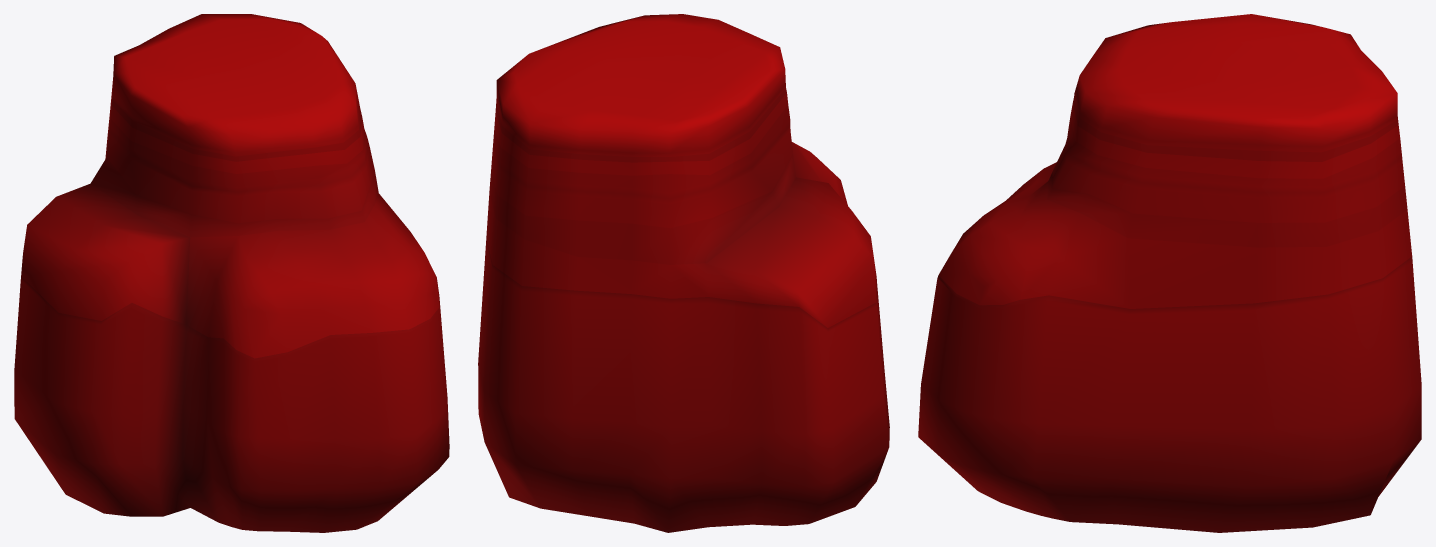
The model's file is geology-landforms-sandstonemesalarge_v3.fbx.
3 renders of one model, left to right at view 1: azimuth 30°, elevation 25°; view 2: azimuth 150°, elevation 25°; view 3: azimuth 270°, elevation 25°, orthographic. The views are drawn at different scales.
Visible parts, largest first — view 1: SandStoneMesaLarge_v3; view 2: SandStoneMesaLarge_v3; view 3: SandStoneMesaLarge_v3.
Boxes of the visible parts, <box> form: SandStoneMesaLarge_v3: <box>14,14,449,532</box>; SandStoneMesaLarge_v3: <box>478,14,889,532</box>; SandStoneMesaLarge_v3: <box>918,14,1421,532</box>.
Size of the model in its own units: 34.89 by 38.43 by 42.18.
